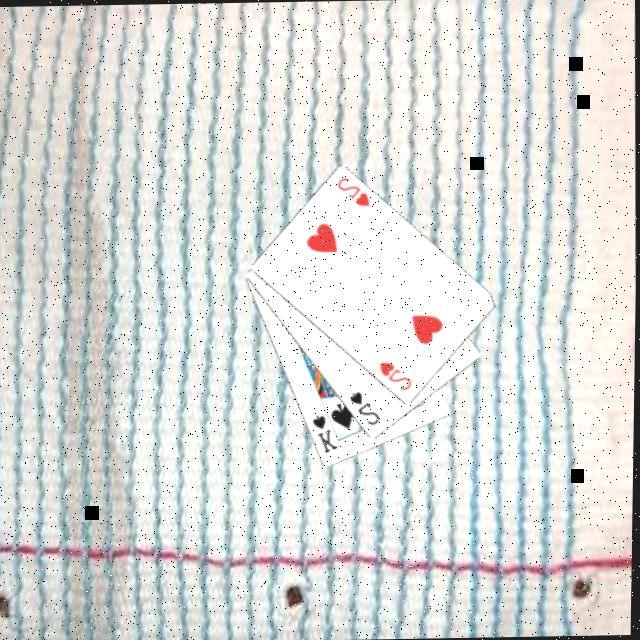2H: (336, 174, 376, 211), (378, 358, 417, 395)
2S: (349, 389, 386, 430)
KS: (311, 412, 345, 458)
